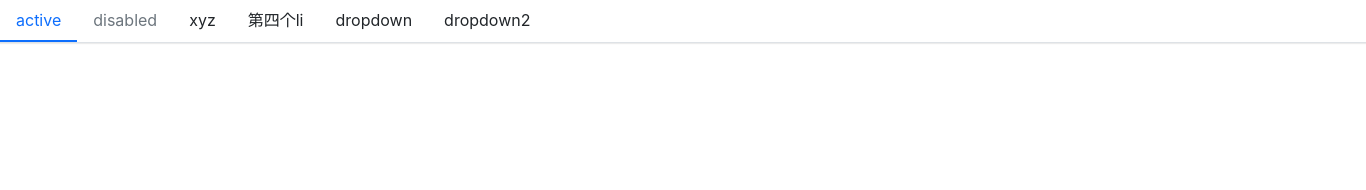
it: 测试菜单和菜单项组件 › 5.鼠标移动到下拉框处，展示下拉菜单
Hover over the text "dropdown" at x=374, y=20, box [336,8,412,32]
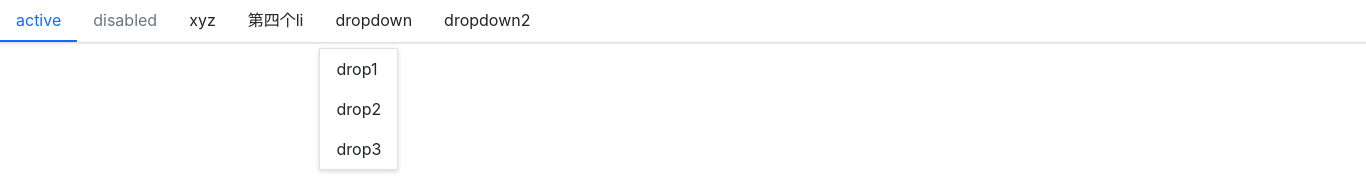
Expected: the list item "drop2" is shown, [336,99,381,119]
Move the pointer off the text "dropdown", box [336,8,412,32]
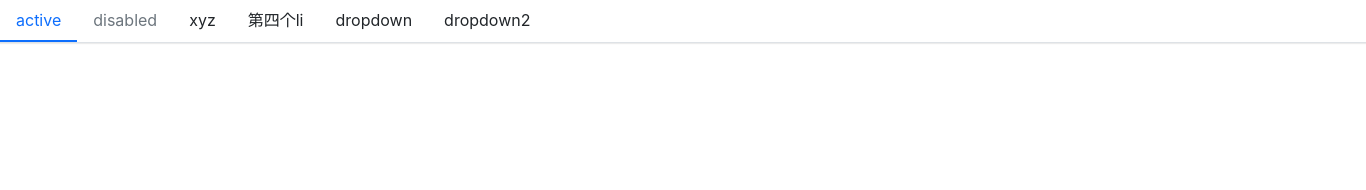
Expected: the list item "drop2" is gone
